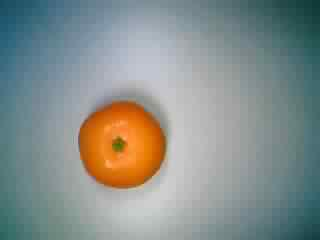orange: (76, 98, 175, 195)
